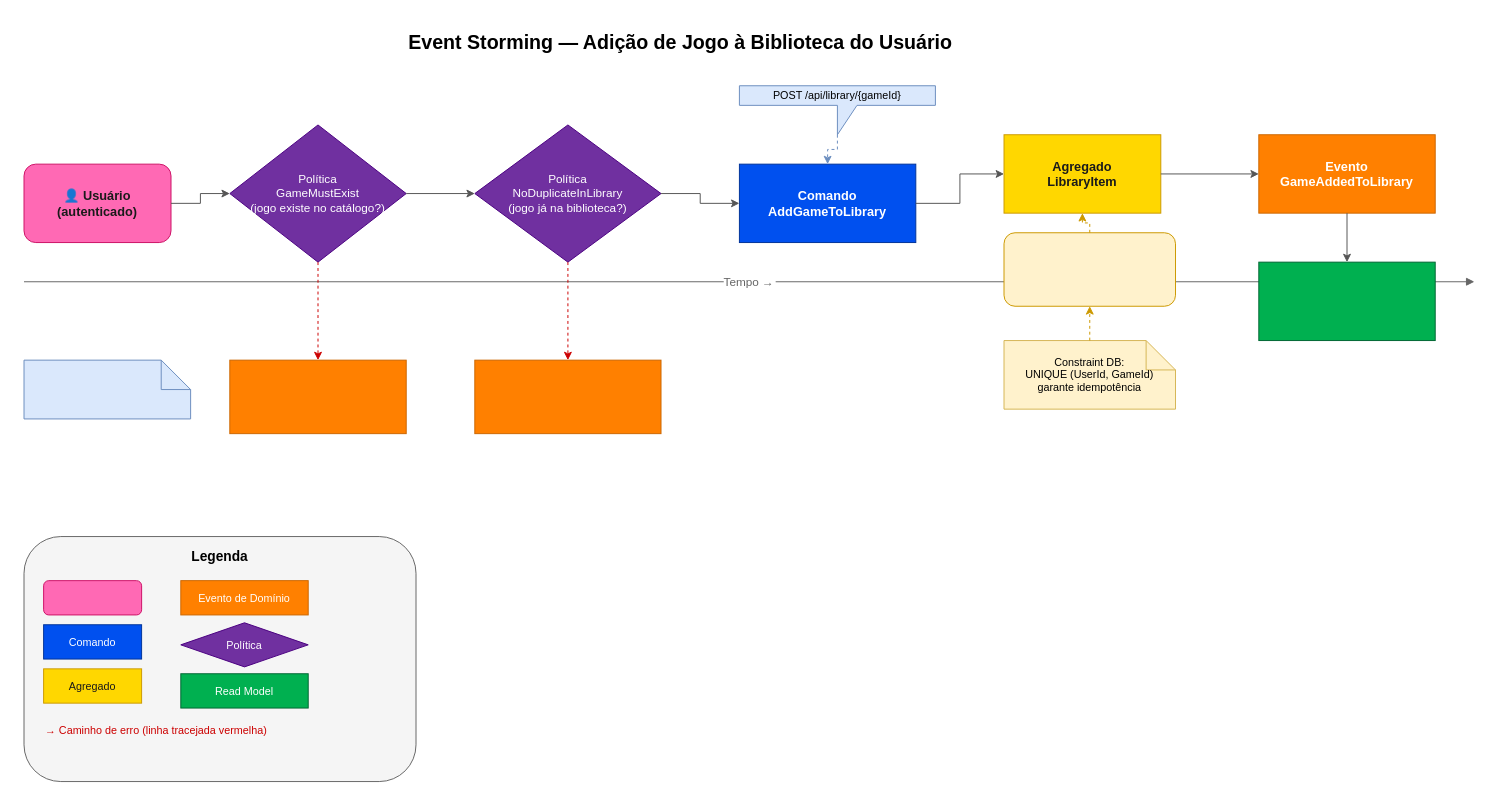
This 1499x799 diagram has some shape labels left out. The shapes that lost their labels are listed below. From the top down, each one's centre as x and y in pixels, then its label:
the point at 1089,269: UserId (FK) GameId (FK) AcquiredAt UK: (UserId, GameId)
the point at 1346,301: Read Model User Library GET /api/library
the point at 107,389: JWT válido obrigatório (claim: sub = UserId)
the point at 317,396: Evento GameNotFound (404 Not Found)
the point at 567,396: Evento DuplicateLibraryEntry (409 Conflict)
the point at 92,597: Ator
